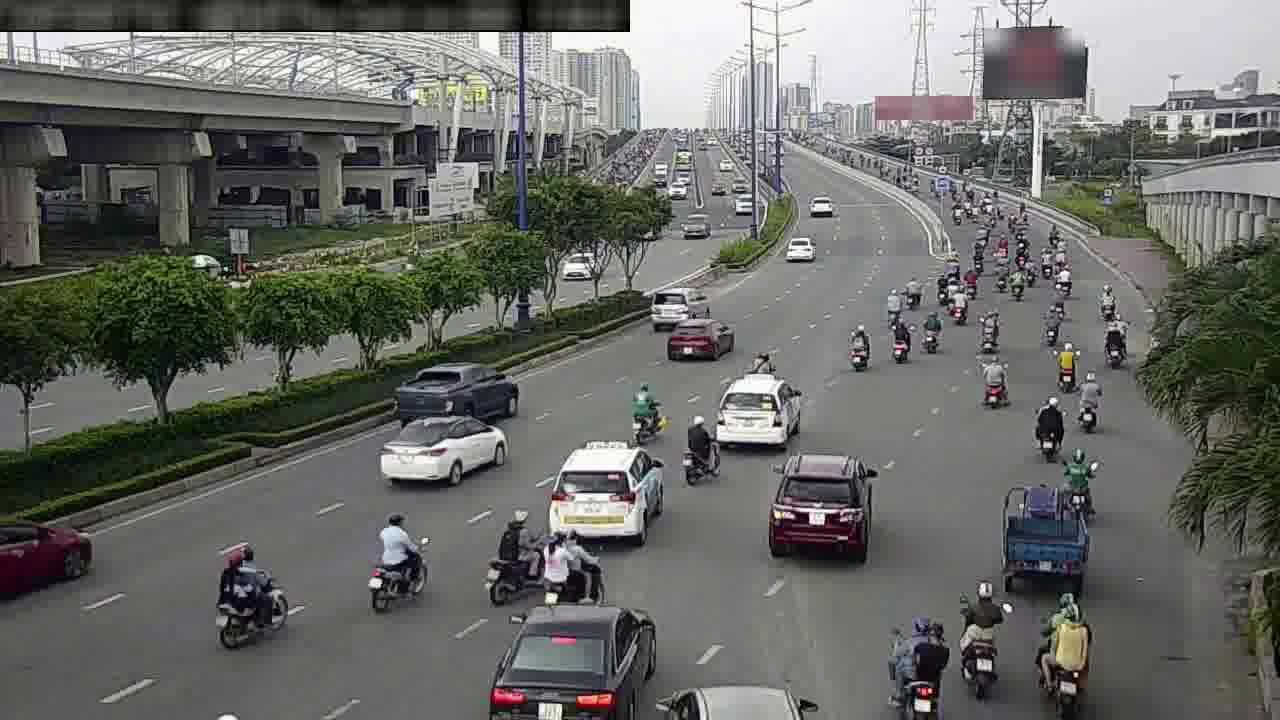container: (507, 583, 659, 701), (544, 431, 665, 540), (769, 447, 876, 557), (392, 353, 514, 435), (387, 403, 504, 483), (0, 508, 95, 600), (716, 382, 790, 450), (669, 312, 734, 363), (645, 282, 703, 328)
motorbike: (207, 540, 286, 651), (1031, 581, 1097, 708), (362, 510, 433, 614), (885, 608, 948, 717), (483, 504, 548, 606), (540, 519, 606, 612), (951, 587, 1001, 699), (626, 373, 667, 442), (682, 417, 722, 486), (1056, 449, 1097, 515), (1029, 394, 1066, 459), (976, 354, 1011, 412), (1071, 374, 1104, 432), (841, 318, 874, 374), (1050, 338, 1081, 390), (1098, 318, 1129, 368), (886, 317, 914, 365), (918, 306, 944, 356), (975, 310, 1002, 356), (1093, 282, 1120, 325), (945, 284, 971, 327), (899, 270, 924, 311), (1005, 263, 1029, 303), (882, 282, 903, 326), (750, 344, 776, 377), (1041, 304, 1062, 341), (961, 263, 982, 300), (1054, 259, 1075, 293), (933, 267, 952, 304), (1049, 283, 1066, 318)
